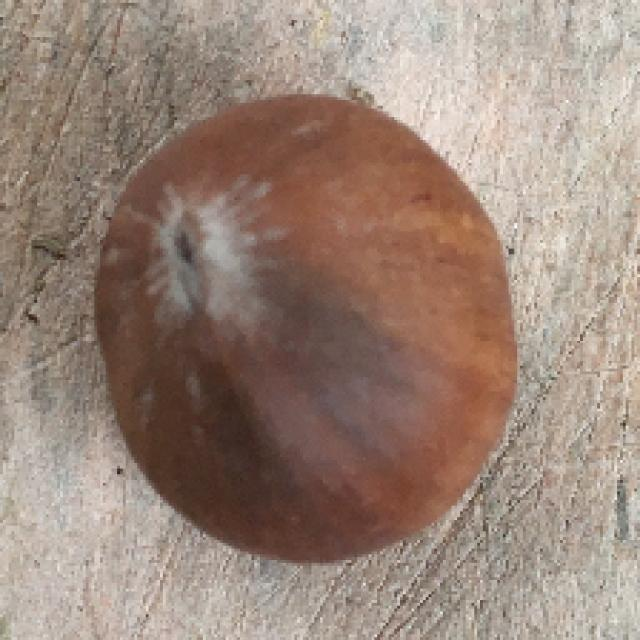qualityHazelnut: (94, 87, 520, 570)
